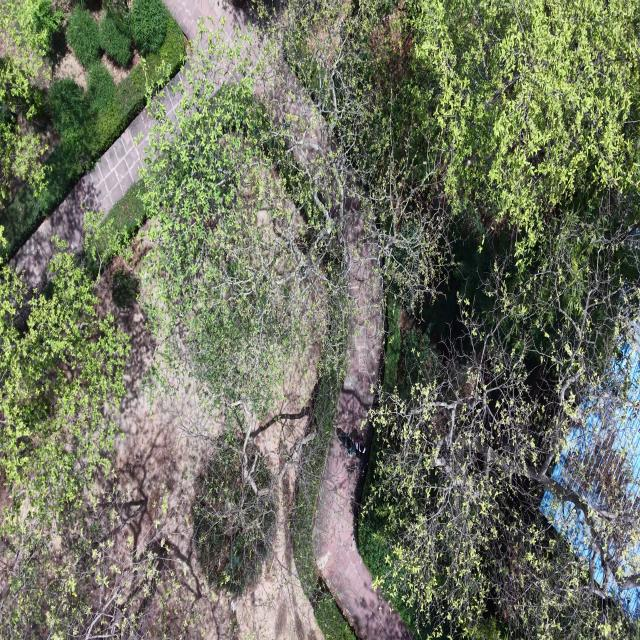DRY_AREA: (0, 258, 239, 639), (98, 258, 322, 639), (101, 259, 322, 639), (99, 263, 322, 639), (32, 259, 239, 639), (108, 303, 322, 639), (96, 259, 237, 639), (97, 263, 238, 639), (114, 380, 233, 639), (234, 344, 322, 639), (11, 110, 153, 288), (235, 349, 322, 639), (11, 110, 152, 288), (314, 438, 411, 639), (233, 470, 322, 639), (235, 475, 322, 639), (335, 215, 383, 448), (335, 217, 383, 449), (336, 216, 383, 449), (336, 217, 382, 447), (88, 112, 151, 213), (164, 0, 247, 41), (164, 0, 232, 39), (100, 51, 140, 85)
PATHWAYS: (336, 210, 383, 447)
ROOFTOP_BUILDING: (540, 341, 639, 618)
VEGETATION_TREE: (86, 0, 639, 639), (280, 2, 638, 637), (144, 32, 445, 548), (144, 32, 353, 637), (367, 201, 637, 637), (143, 31, 340, 592), (282, 0, 638, 263), (0, 189, 197, 639), (0, 245, 196, 639), (143, 34, 334, 417), (0, 253, 180, 637), (393, 0, 639, 261), (145, 85, 322, 415), (273, 2, 451, 309), (0, 247, 128, 638), (0, 0, 184, 257), (0, 19, 185, 257), (0, 251, 128, 535), (0, 487, 197, 639), (290, 369, 355, 639), (193, 430, 276, 594), (0, 0, 62, 203), (41, 78, 98, 199), (83, 182, 146, 279), (0, 0, 63, 88), (86, 182, 146, 272), (0, 104, 45, 199), (48, 78, 89, 138), (129, 0, 168, 55), (67, 6, 100, 68), (315, 593, 355, 639), (100, 11, 131, 66), (87, 62, 116, 112), (112, 268, 139, 309), (103, 0, 130, 16)
